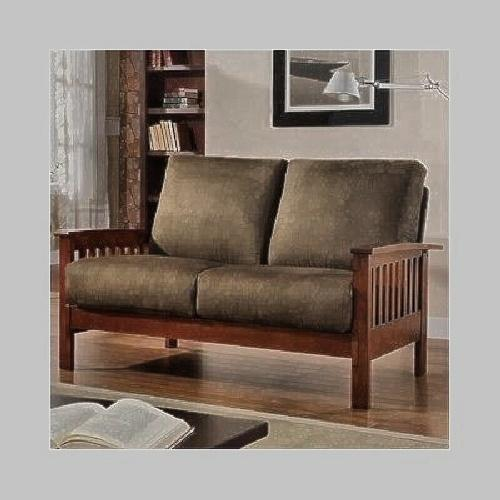sofa: (81, 154, 436, 395)
